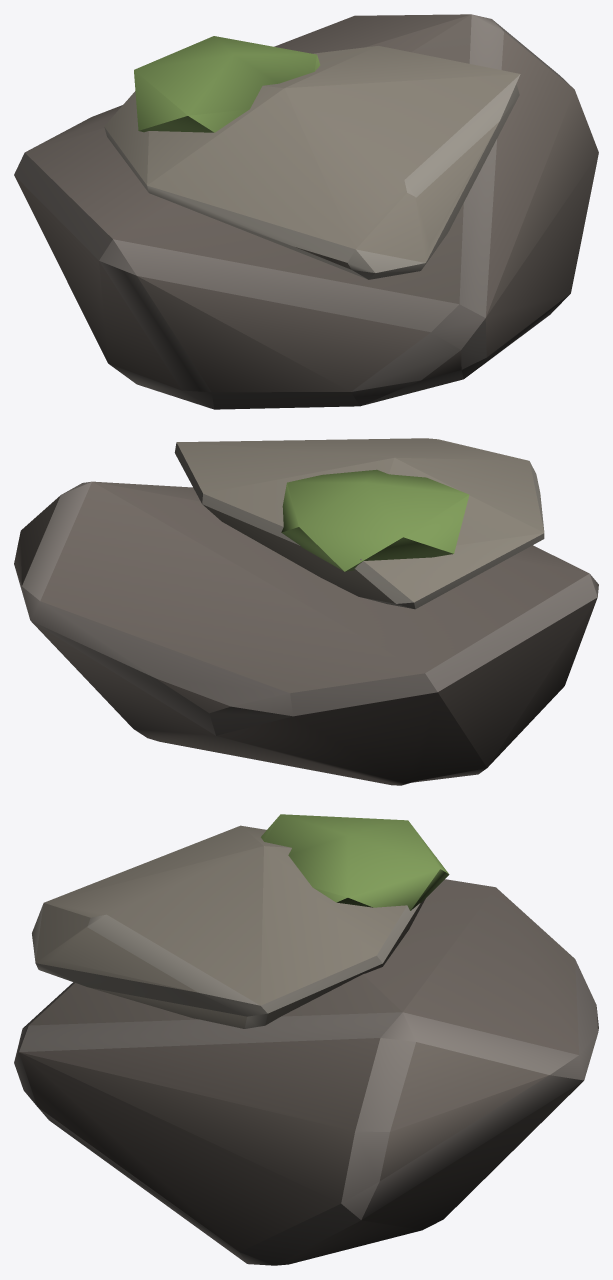
The model's file is CO_Rock_A.glb.
3 views of the same model, one above another, from view 1: azimuth 30°, elevation 25°; view 2: azimuth 150°, elevation 25°; view 3: azimuth 270°, elevation 25° (orthographic). The views are drawn at different scales.
Parts seen in each view (by area): view 1: CO_Rock_A_1_Slate, CO_Rock_A_2_SmoothPlastic; view 2: CO_Rock_A_1_Slate, CO_Rock_A_2_SmoothPlastic; view 3: CO_Rock_A_1_Slate, CO_Rock_A_2_SmoothPlastic.
Boxes of the visible parts, <box> form: CO_Rock_A_1_Slate: <box>14,14,598,409</box>; CO_Rock_A_2_SmoothPlastic: <box>134,36,320,132</box>; CO_Rock_A_1_Slate: <box>14,438,598,785</box>; CO_Rock_A_2_SmoothPlastic: <box>281,469,469,571</box>; CO_Rock_A_1_Slate: <box>14,825,598,1265</box>; CO_Rock_A_2_SmoothPlastic: <box>261,814,449,910</box>.
Bounding box in the file's own units: 6.13 × 3.11 × 5.49.
